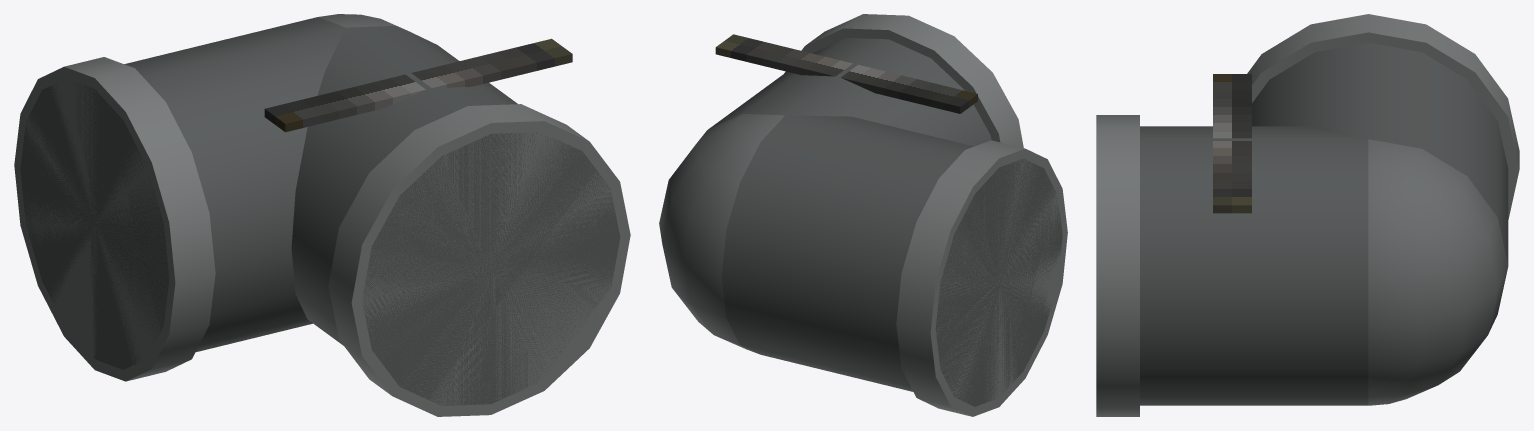
File: CMU3DReduxDisposalBendLoose.glb
The picture shows the model from 3 angles, left to right: view 1: azimuth 30°, elevation 25°; view 2: azimuth 150°, elevation 25°; view 3: azimuth 270°, elevation 25°; orthographic projection. The views are drawn at different scales.
Parts seen in each view (by area): view 1: round S barrel, round W barrel, S coupling, W coupling, source routing plate, curved closed junction; view 2: round W barrel, W coupling, curved closed junction, round S barrel, S coupling, source routing plate; view 3: round S barrel, curved closed junction, round W barrel, S coupling, W coupling, source routing plate.
Boxes of the visible parts, left/top/right/bottom form: round S barrel: left=291, top=26, right=620, bottom=405; round W barrel: left=20, top=17, right=345, bottom=369; S coupling: left=328, top=104, right=630, bottom=416; W coupling: left=14, top=57, right=215, bottom=381; source routing plate: left=264, top=38, right=572, bottom=132; curved closed junction: left=318, top=14, right=430, bottom=41; round W barrel: left=721, top=115, right=1062, bottom=406; W coupling: left=896, top=140, right=1067, bottom=416; curved closed junction: left=659, top=114, right=784, bottom=353; round S barrel: left=708, top=38, right=991, bottom=146; S coupling: left=784, top=14, right=1023, bottom=147; source routing plate: left=715, top=34, right=977, bottom=113; round S barrel: left=1140, top=126, right=1368, bottom=405; curved closed junction: left=1368, top=139, right=1508, bottom=405; round W barrel: left=1252, top=42, right=1508, bottom=264; S coupling: left=1096, top=115, right=1139, bottom=416; W coupling: left=1247, top=14, right=1519, bottom=219; source routing plate: left=1213, top=74, right=1251, bottom=213.
Size of the model in its own units: 0.6875 by 0.486 by 0.6805.
4 materials, 1 textured.
